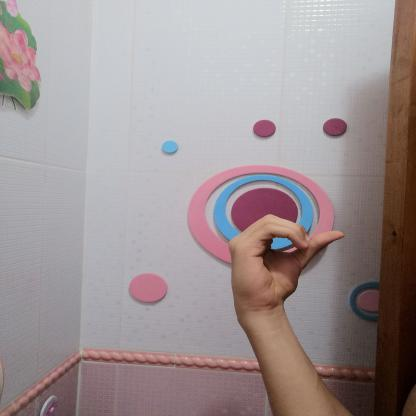WAW: (218, 206, 352, 319)
